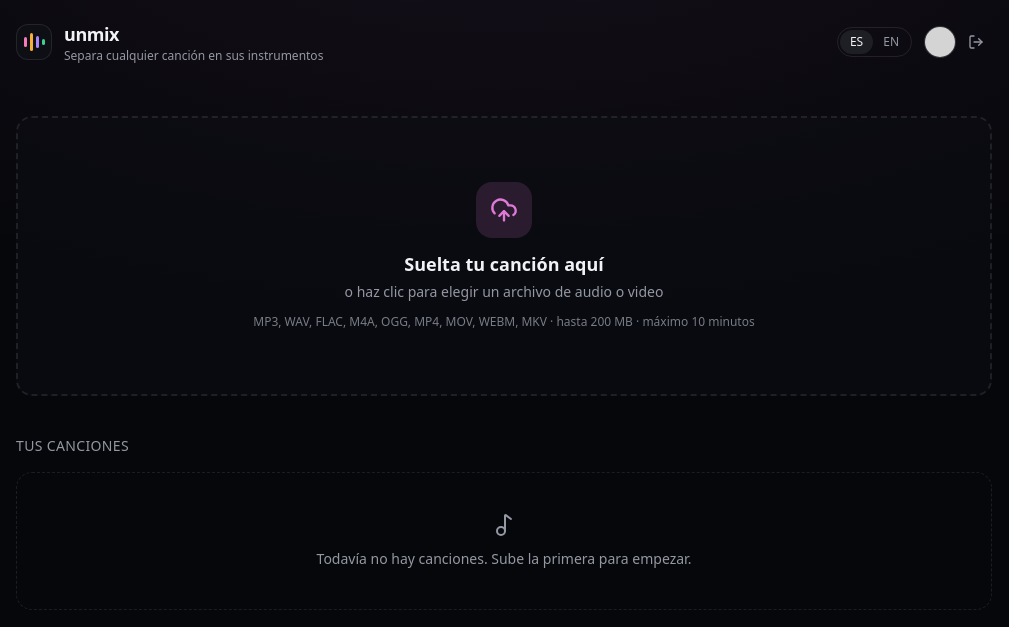
it: App › switches the language
Click the button "en": coordinates (891, 42) [873,30,909,54]
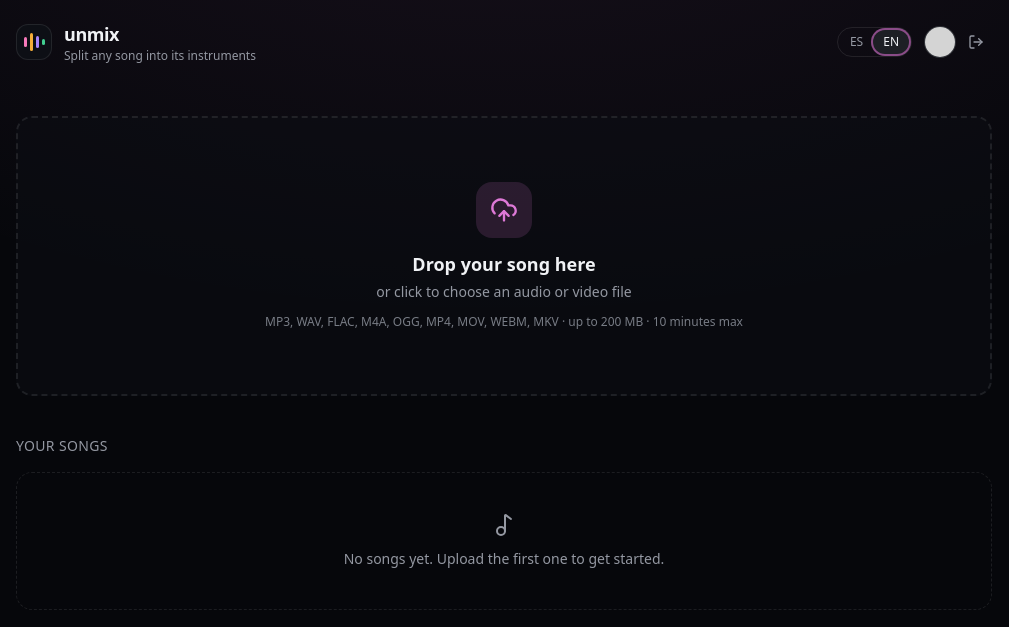
Expected: the heading "Your songs" is shown, [16,436,108,455]
